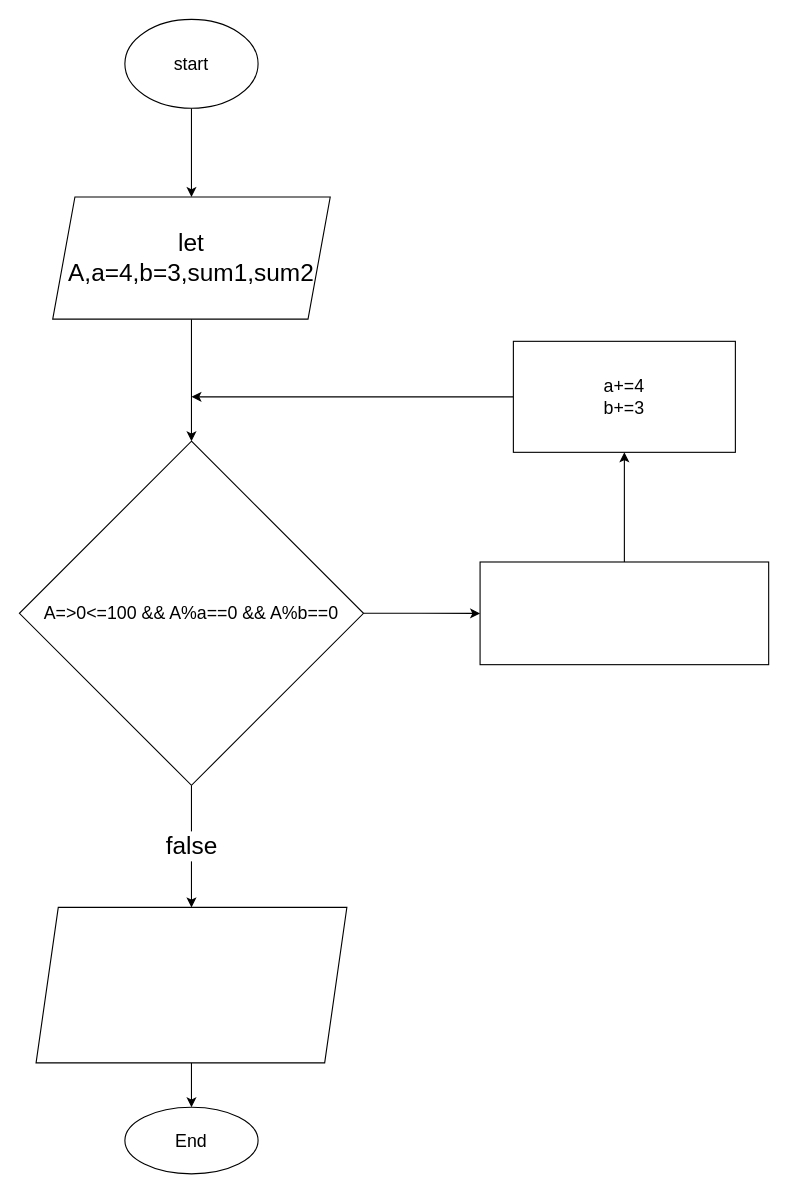
The diagram is 788 pixels wide and 1193 high, and some of its shapes have lost their labels. The shapes that lost their labels are listed below. From the top down, each one's centre as x and y in pixels, then its label:
At (624,613): "sum1=sum1+a sum2=sum2+b".
At (191,984): "print(sum1) print(sum2)".
